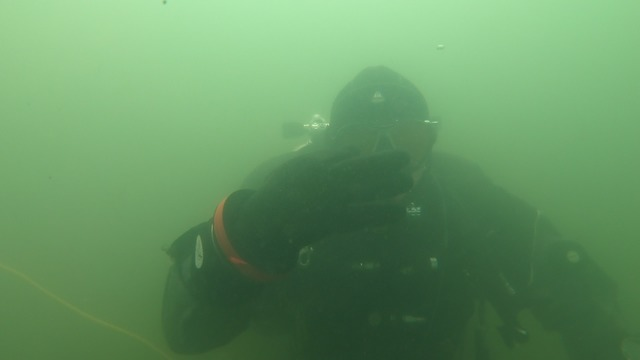Diver: (128, 60, 628, 356)
Hand: (241, 140, 428, 246)
Head: (316, 54, 448, 210)
